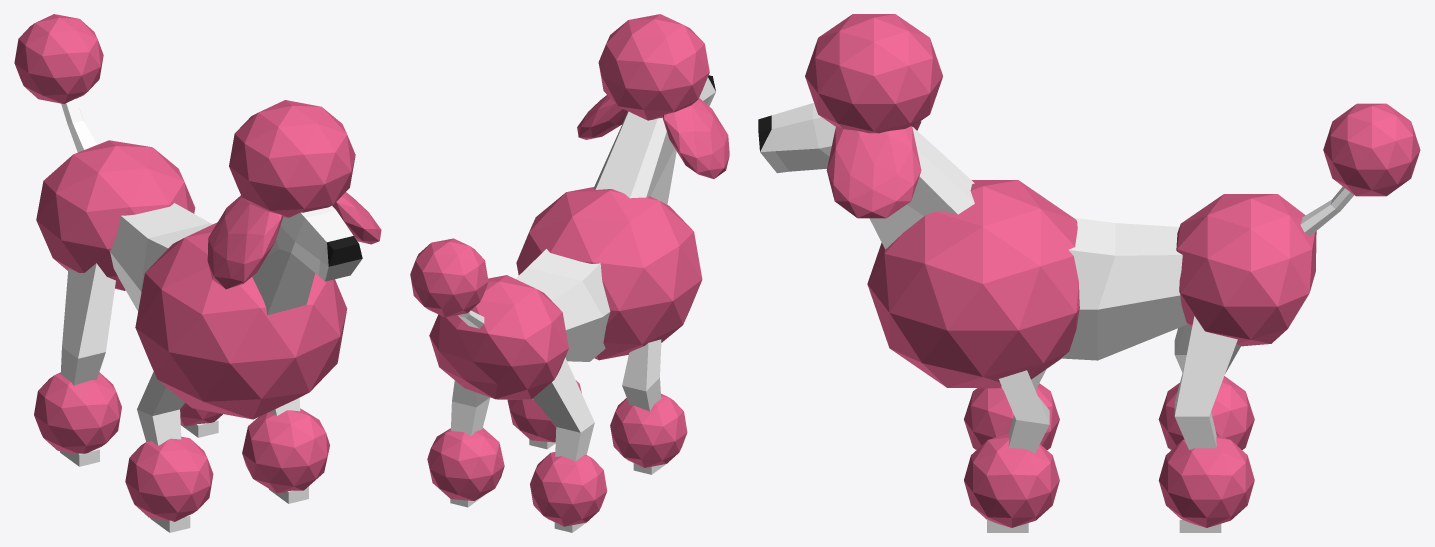
Rendered from Poodle_01.obj.
3 views of the same model, side by side, from view 1: azimuth 30°, elevation 25°; view 2: azimuth 150°, elevation 25°; view 3: azimuth 270°, elevation 25° (orthographic). The views are drawn at different scales.
Parts seen in each view (by area): view 1: Poodle_01_Cube.031; view 2: Poodle_01_Cube.031; view 3: Poodle_01_Cube.031.
Part boxes in pixels (x1,y1,x2,y2): Poodle_01_Cube.031: (14,14,381,532); Poodle_01_Cube.031: (410,14,729,532); Poodle_01_Cube.031: (758,14,1420,532).
Bounding box in the file's own units: 10.18 × 22.87 × 28.64.
